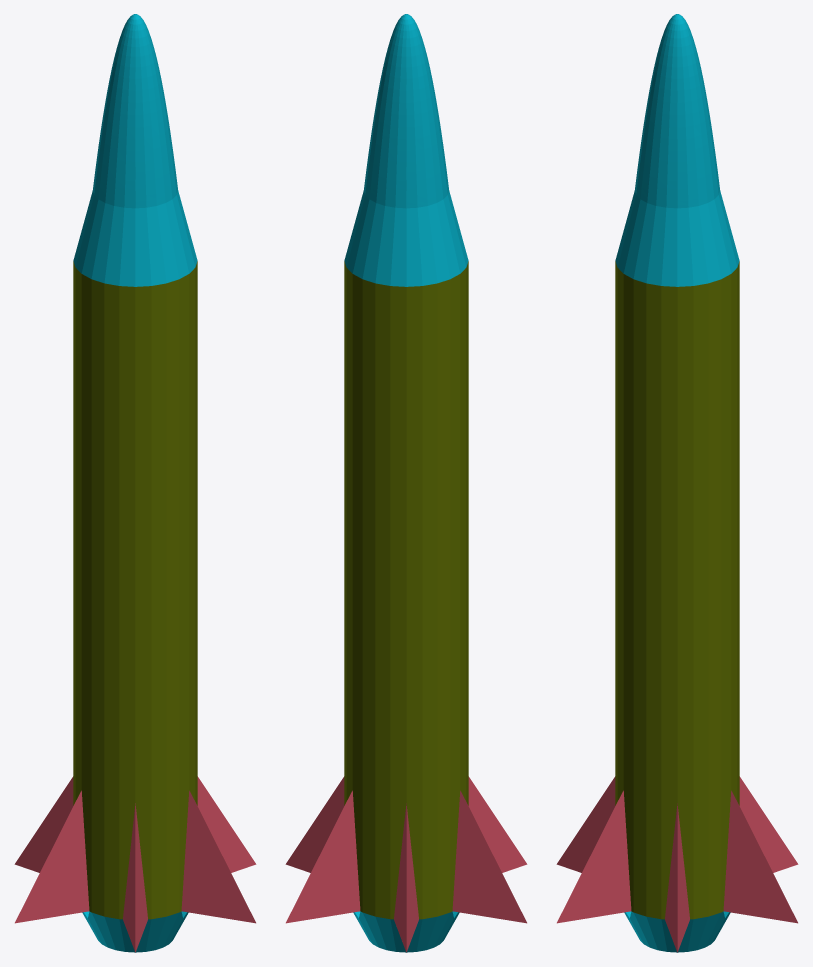
Rendered from rocket.glb.
3 renders of one model, left to right at view 1: azimuth 30°, elevation 25°; view 2: azimuth 150°, elevation 25°; view 3: azimuth 270°, elevation 25°, orthographic.
Visible parts, largest first — view 1: Mesh_Mesh_head_geo.001_lambert2SG.001; view 2: Mesh_Mesh_head_geo.001_lambert2SG.001; view 3: Mesh_Mesh_head_geo.001_lambert2SG.001.
Part boxes in pixels (left/top/right/bottom): Mesh_Mesh_head_geo.001_lambert2SG.001: left=14, top=14, right=256, bottom=952; Mesh_Mesh_head_geo.001_lambert2SG.001: left=285, top=14, right=527, bottom=952; Mesh_Mesh_head_geo.001_lambert2SG.001: left=556, top=14, right=798, bottom=952.
Bounding box in the file's own units: 36 × 131 × 31.18.
